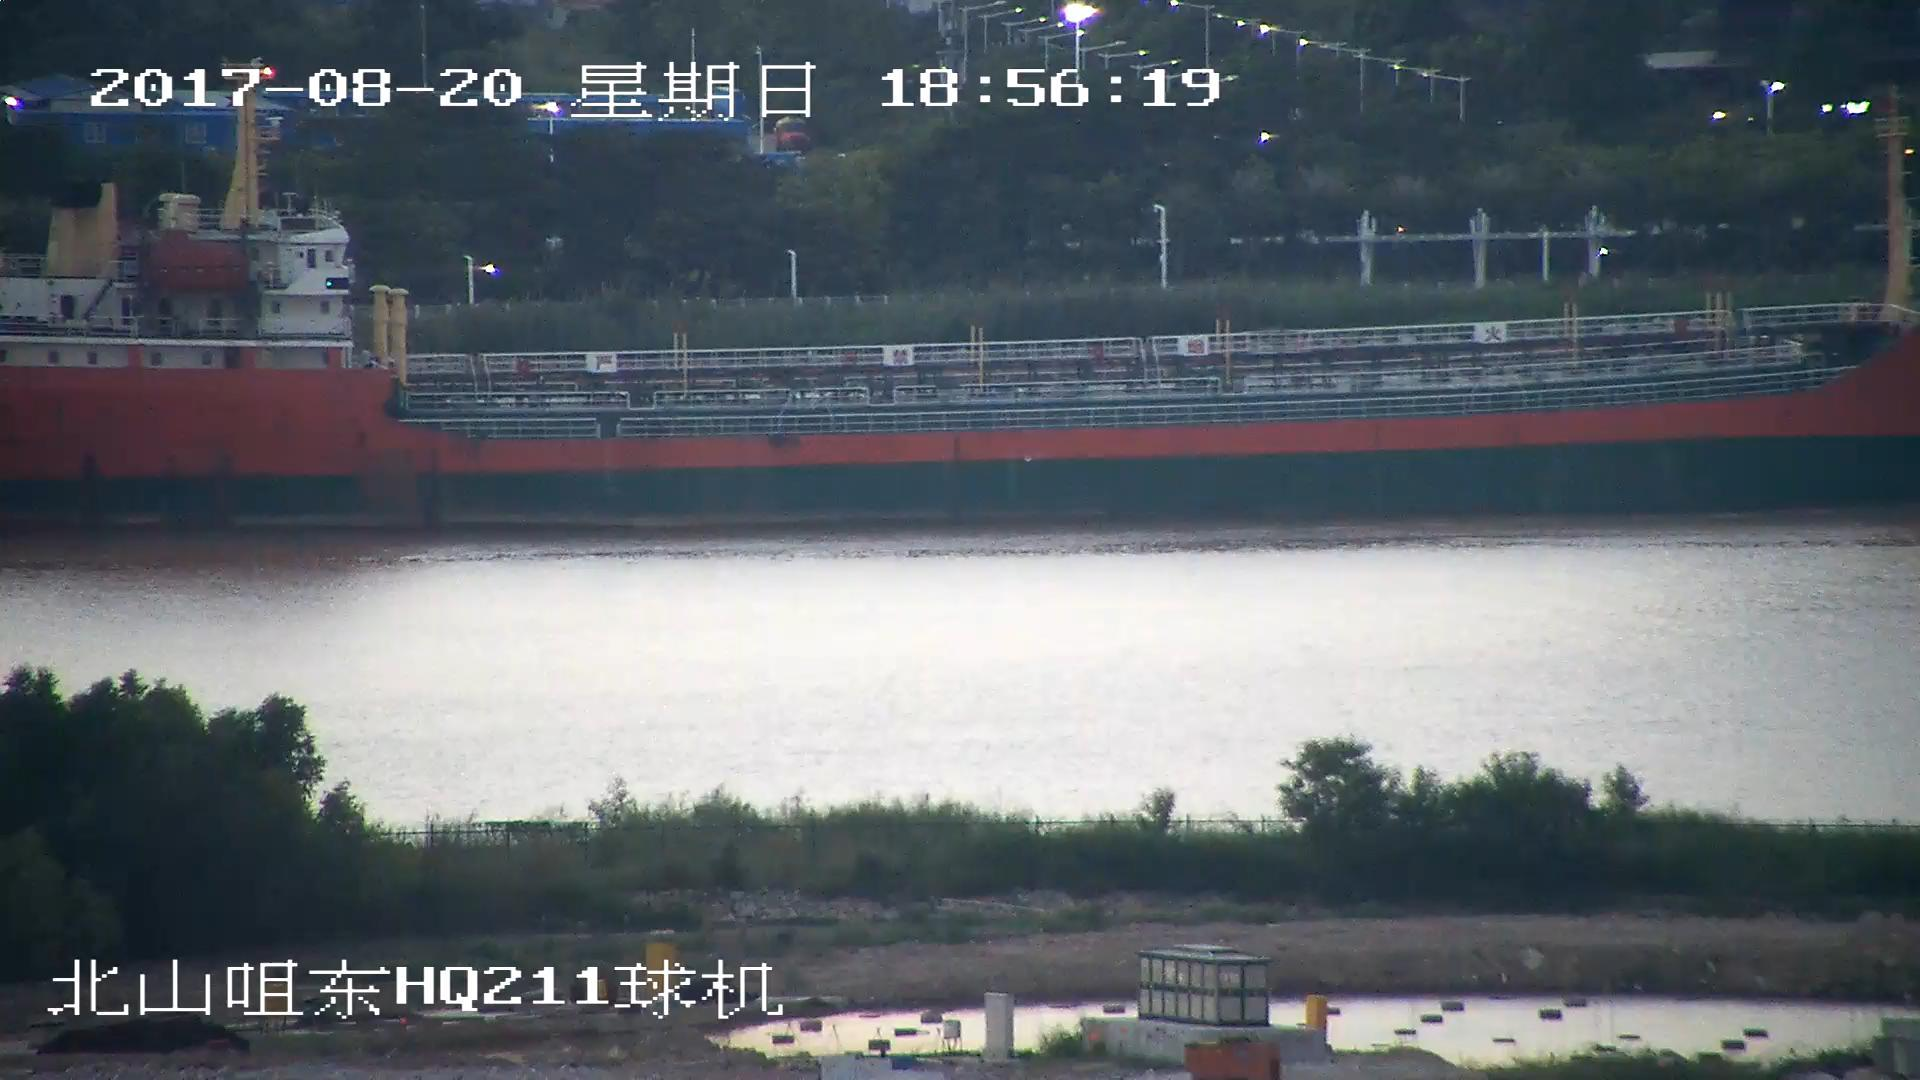Ship: (3, 111, 1920, 535)
